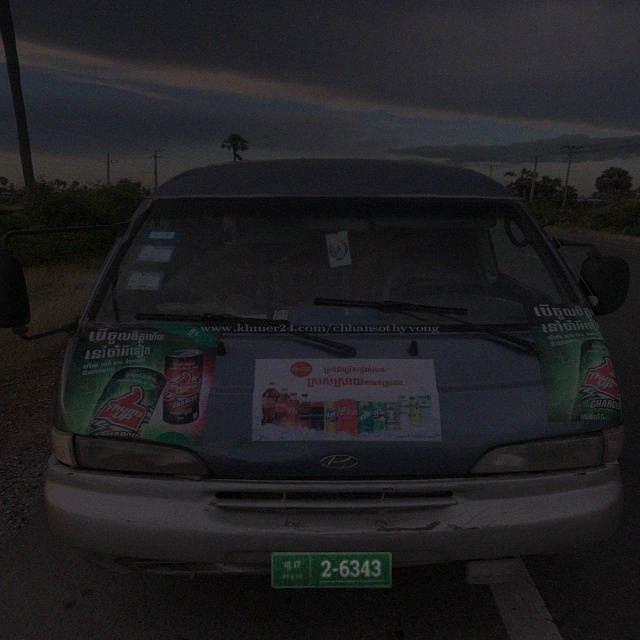Plate Number: (272, 552, 392, 589)
